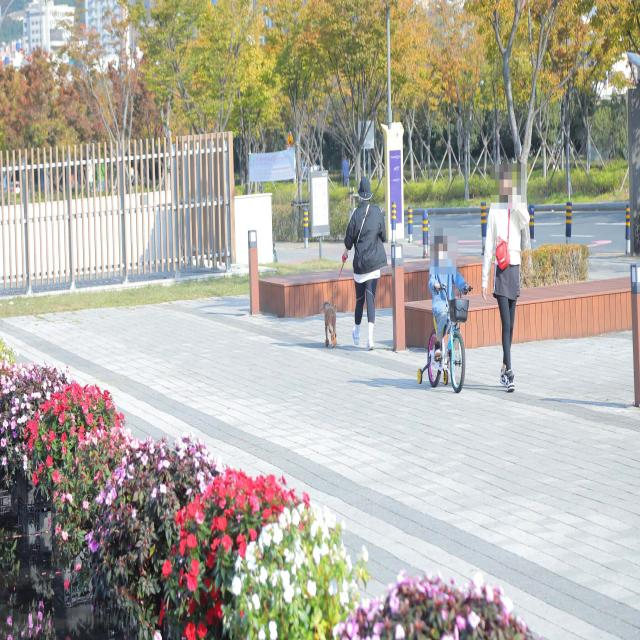Leashed_Dog: (320, 254, 359, 348)
